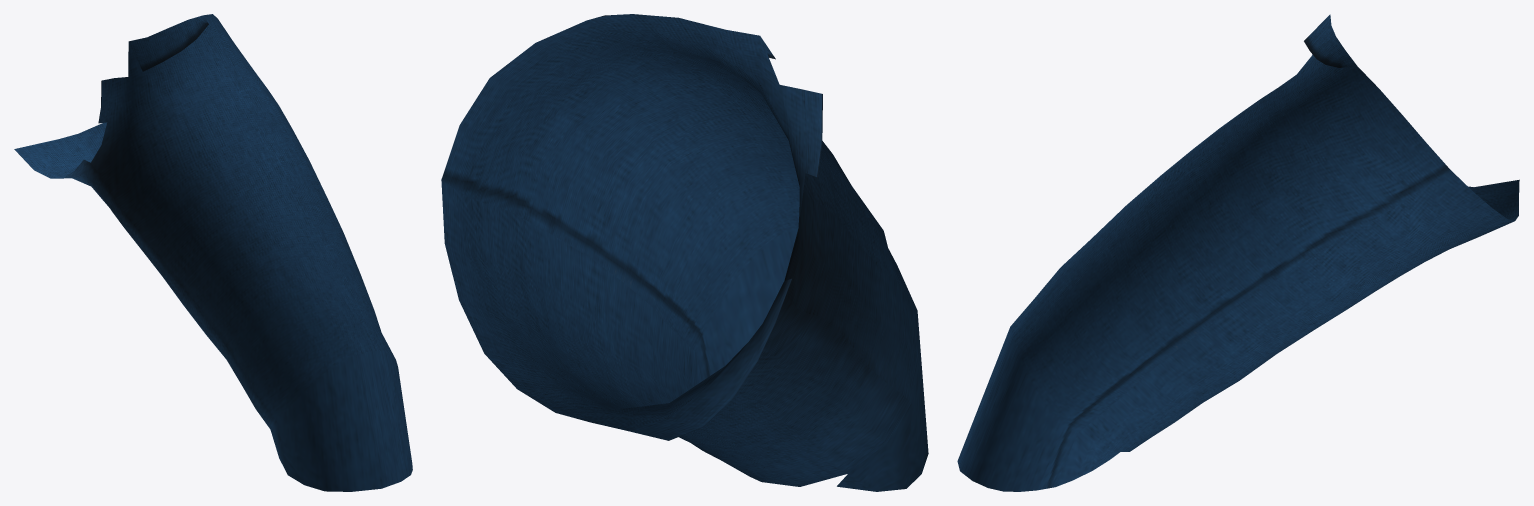
The model's file is musloizq.obj.
3 views of the same model, side by side, from view 1: azimuth 30°, elevation 25°; view 2: azimuth 150°, elevation 25°; view 3: azimuth 270°, elevation 25° (orthographic). The views are drawn at different scales.
Visible parts, largest first — view 1: polySurface38 polySurface36 polySurface34 polySurface30 polySurf; view 2: polySurface38 polySurface36 polySurface34 polySurface30 polySurf; view 3: polySurface38 polySurface36 polySurface34 polySurface30 polySurf.
Part boxes in pixels (x1,y1,x2,y2): polySurface38 polySurface36 polySurface34 polySurface30 polySurf: [14, 14, 412, 491]; polySurface38 polySurface36 polySurface34 polySurface30 polySurf: [441, 14, 928, 491]; polySurface38 polySurface36 polySurface34 polySurface30 polySurf: [957, 14, 1519, 491].
Bounding box in the file's own units: 0.0911 × 0.1717 × 0.2148.
Materials: 1 (1 with a texture image).
